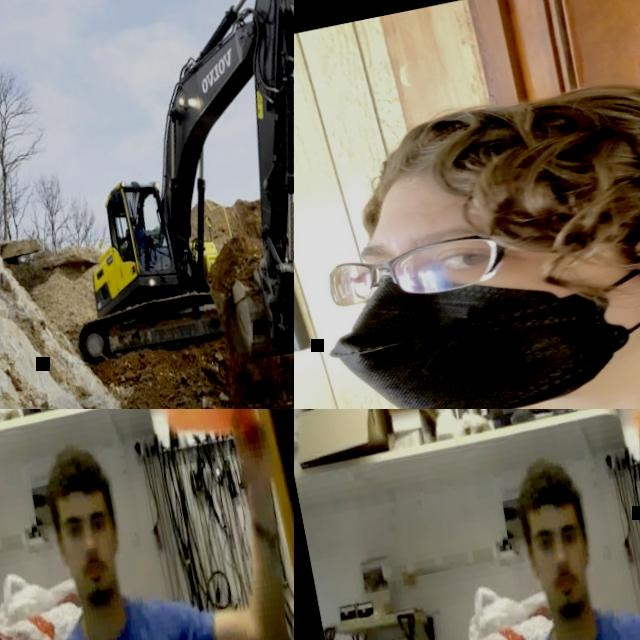Mask: (318, 215, 640, 409)
NO-Hardhat: (355, 50, 640, 231), (41, 443, 115, 514), (512, 456, 586, 527)
NO-Mask: (74, 555, 123, 604), (545, 568, 594, 617)
NO-Safety Vest: (51, 600, 190, 640)
Person: (294, 33, 640, 409), (0, 409, 294, 640), (459, 419, 640, 640), (123, 217, 144, 250)
machinery: (9, 0, 294, 395)
